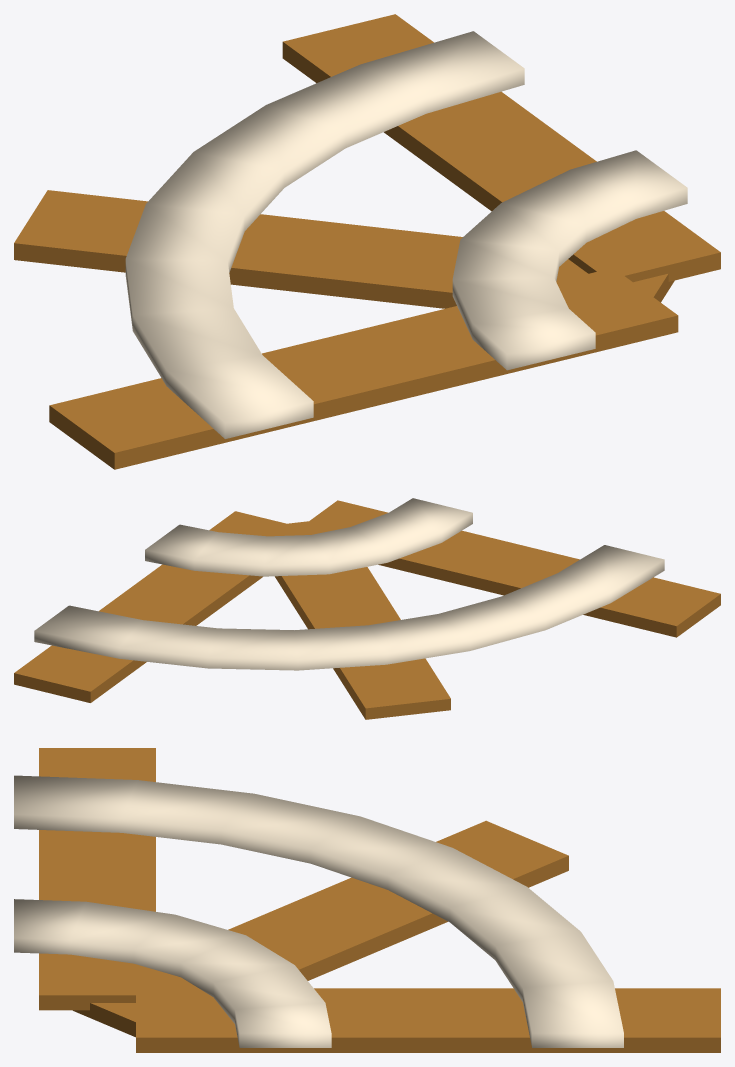
File: IndestructibleRailTurn.fbx
The picture shows the model from 3 angles, top to bottom: view 1: azimuth 30°, elevation 25°; view 2: azimuth 150°, elevation 25°; view 3: azimuth 270°, elevation 25°; orthographic projection. The views are drawn at different scales.
Parts seen in each view (by area): view 1: Rail_Szyny_Turn, Rail_Track_Turn, Rail_Track_Turn__1_, Rail_Track_Turn__2_; view 2: Rail_Szyny_Turn, Rail_Track_Turn, Rail_Track_Turn__1_, Rail_Track_Turn__2_; view 3: Rail_Szyny_Turn, Rail_Track_Turn__1_, Rail_Track_Turn, Rail_Track_Turn__2_.
Boxes of the visible parts, bbox=[...] form: Rail_Szyny_Turn: bbox=[125, 31, 687, 438]; Rail_Track_Turn: bbox=[49, 268, 678, 469]; Rail_Track_Turn__1_: bbox=[282, 14, 720, 282]; Rail_Track_Turn__2_: bbox=[14, 190, 674, 308]; Rail_Szyny_Turn: bbox=[34, 498, 664, 670]; Rail_Track_Turn: bbox=[294, 500, 720, 637]; Rail_Track_Turn__1_: bbox=[14, 511, 310, 702]; Rail_Track_Turn__2_: bbox=[275, 521, 450, 719]; Rail_Szyny_Turn: bbox=[14, 775, 623, 1047]; Rail_Track_Turn__1_: bbox=[136, 988, 720, 1052]; Rail_Track_Turn: bbox=[39, 748, 155, 1010]; Rail_Track_Turn__2_: bbox=[73, 820, 568, 1037].
Bounding box in the file's own units: 85 × 4.98 × 84.6.
